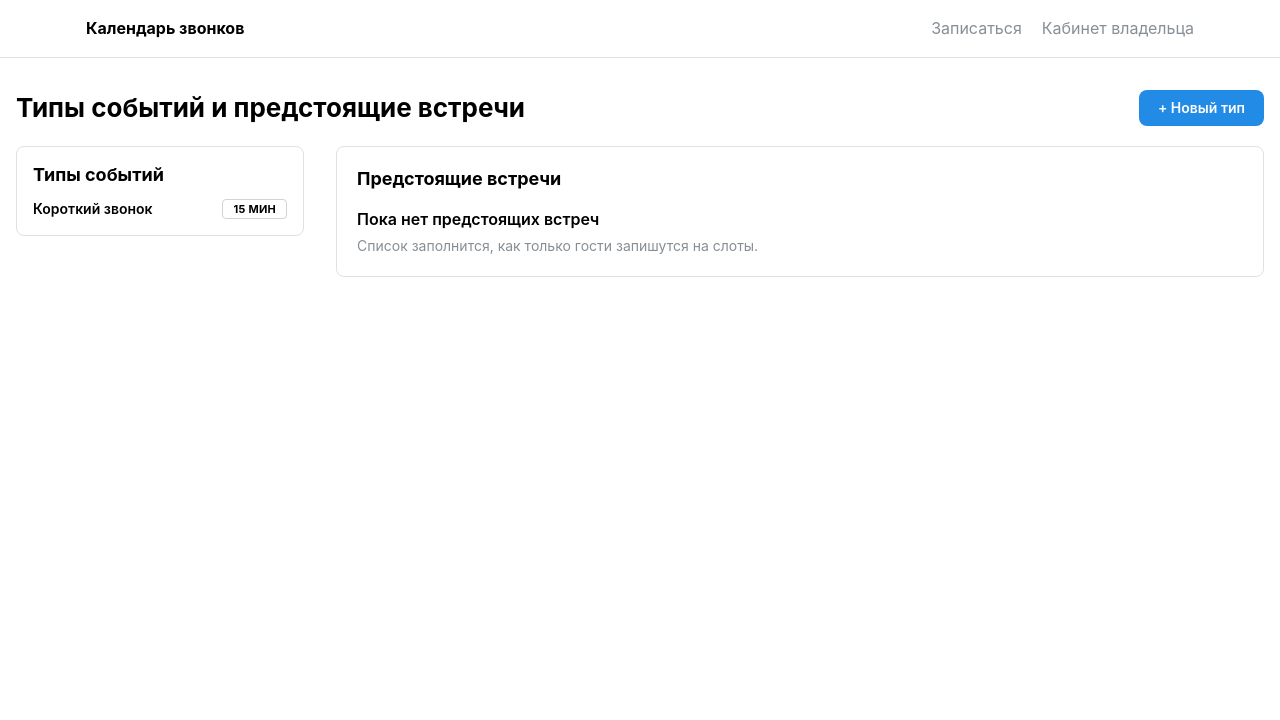
Test: /admin: создание типа события › кнопка «+ Новый тип» открывает панель с полями и кнопками
Click the button "+ Новый тип" at (1201, 108), box [1139, 90, 1264, 126]
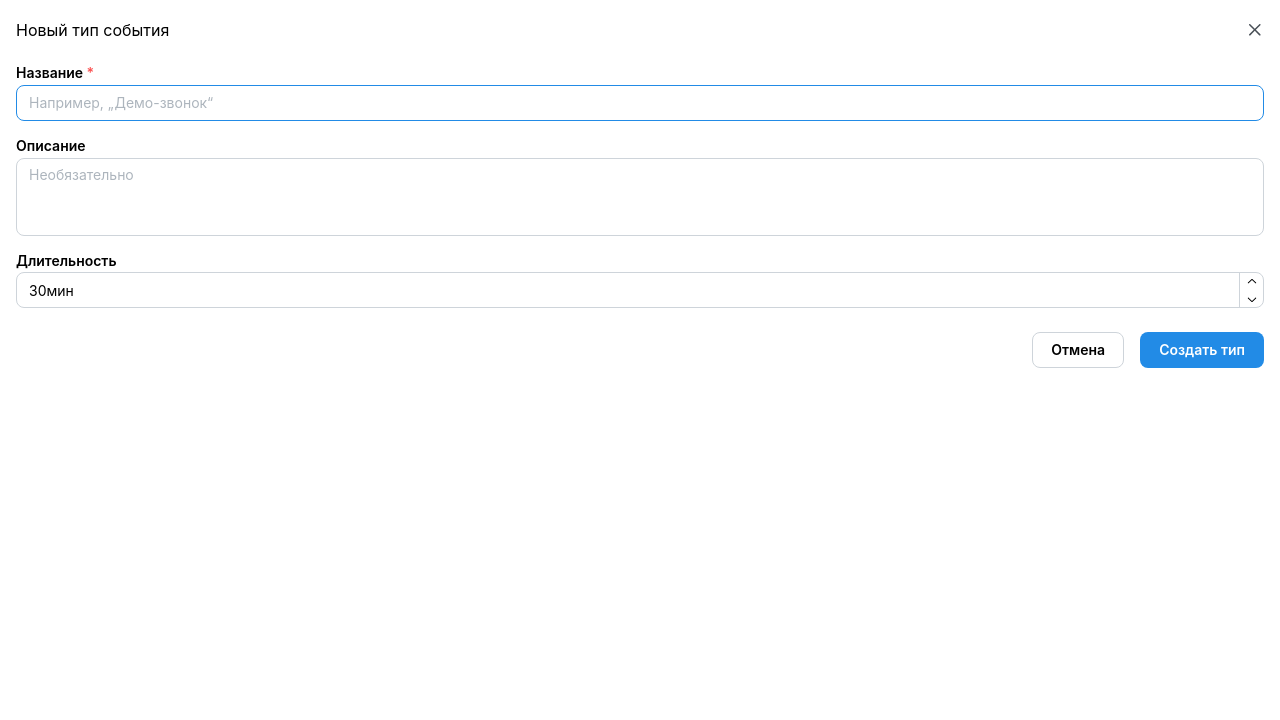
Now the field labelled "Название *" is shown, box [16, 85, 1264, 121]
Now the text box labelled "Описание" is shown, box [16, 158, 1264, 236]
Now the field labelled "Длительность" is shown, box [16, 272, 1264, 308]
